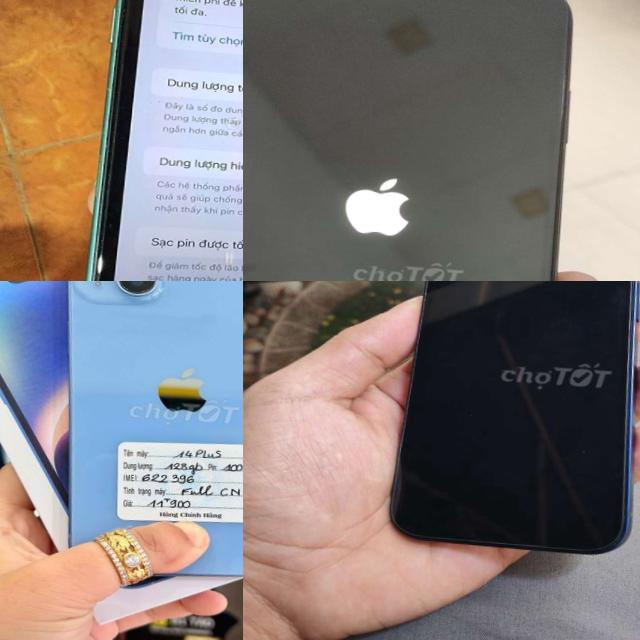gen_11: (48, 0, 243, 281)
gen_12_13: (380, 281, 640, 560)
gen_14: (46, 281, 243, 591)
gen_x_xs: (243, 0, 577, 281)
